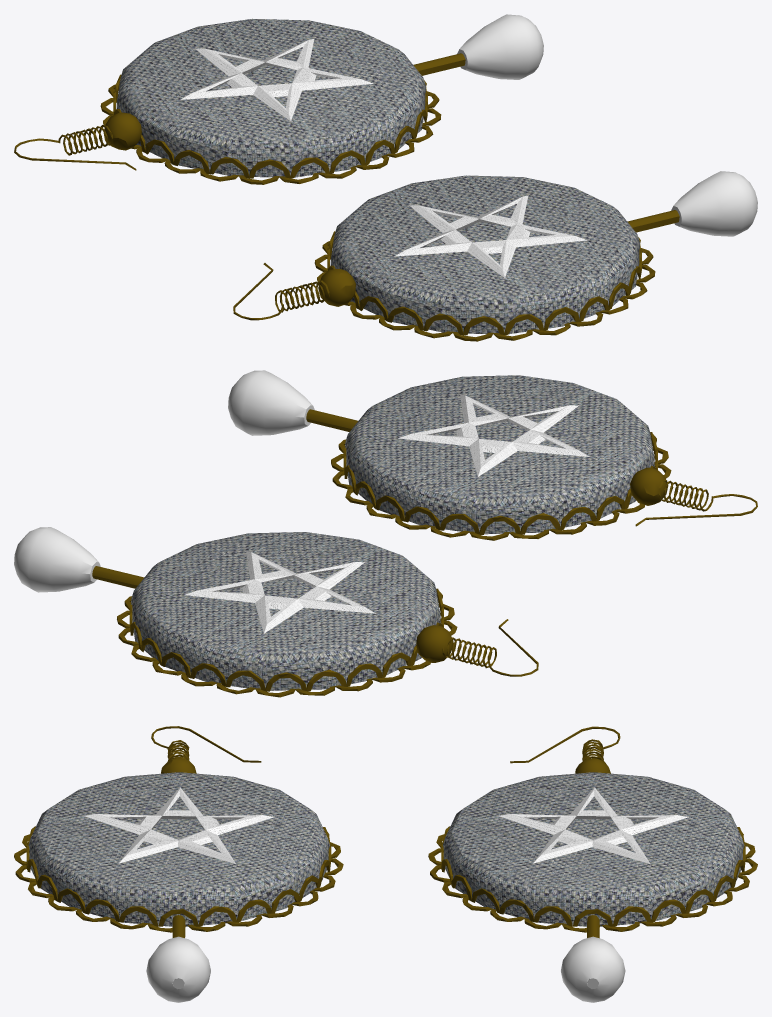
File: spille.fbx
The picture shows the model from 3 angles, top to bottom: view 1: azimuth 30°, elevation 25°; view 2: azimuth 150°, elevation 25°; view 3: azimuth 270°, elevation 25°; orthographic projection. The views are drawn at different scales.
Visible parts, largest first — view 1: Orecchino1.001, Orecchino1.002, Gancio1.001, Gancio1.002; view 2: Orecchino1.001, Orecchino1.002, Gancio1.002, Gancio1.001; view 3: Orecchino1.002, Orecchino1.001, Gancio1.001, Gancio1.002.
Part boxes in pixels (x1,y1,x2,y2): Orecchino1.001: (100, 14, 543, 184); Orecchino1.002: (314, 171, 757, 341); Gancio1.001: (14, 112, 141, 170); Gancio1.002: (233, 263, 355, 320); Orecchino1.001: (14, 527, 457, 697); Orecchino1.002: (228, 370, 671, 540); Gancio1.002: (630, 467, 757, 526); Gancio1.001: (416, 619, 538, 676); Orecchino1.002: (14, 772, 343, 1002); Orecchino1.001: (428, 772, 757, 1002); Gancio1.001: (510, 726, 620, 773); Gancio1.002: (151, 726, 261, 773).
Size of the model in its own units: 77.53 by 8.85 by 99.13.
5 materials, 2 textured.
